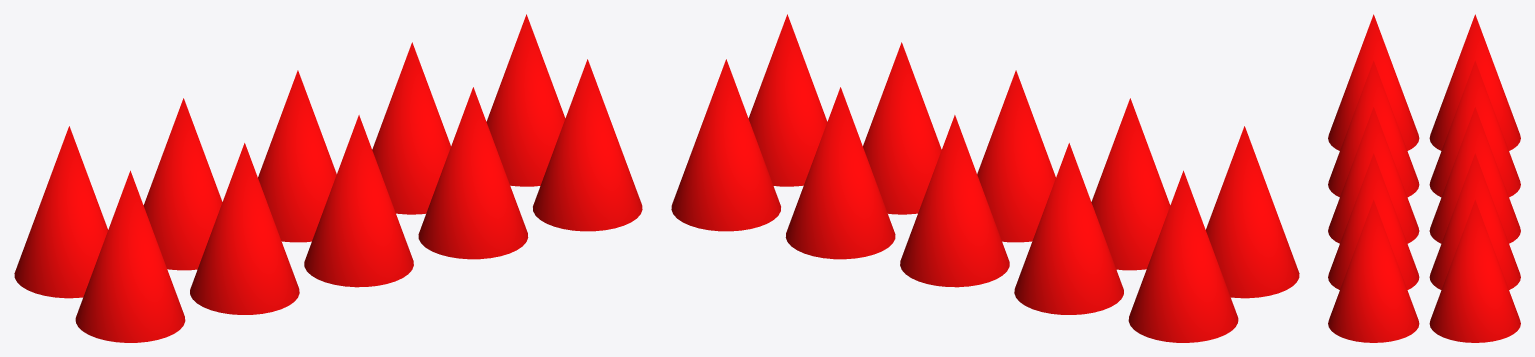
The model's file is Spike_Move_001.fbx.
The picture shows the model from 3 angles, left to right: view 1: azimuth 30°, elevation 25°; view 2: azimuth 150°, elevation 25°; view 3: azimuth 270°, elevation 25°; orthographic projection. The views are drawn at different scales.
Visible parts, largest first — view 1: Spike_Move; view 2: Spike_Move; view 3: Spike_Move.
Part boxes in pixels (bbox=[...]): Spike_Move: bbox=[14, 14, 642, 342]; Spike_Move: bbox=[671, 14, 1299, 342]; Spike_Move: bbox=[1328, 14, 1520, 342].
Bounding box in the file's own units: 209 × 54 × 76.
